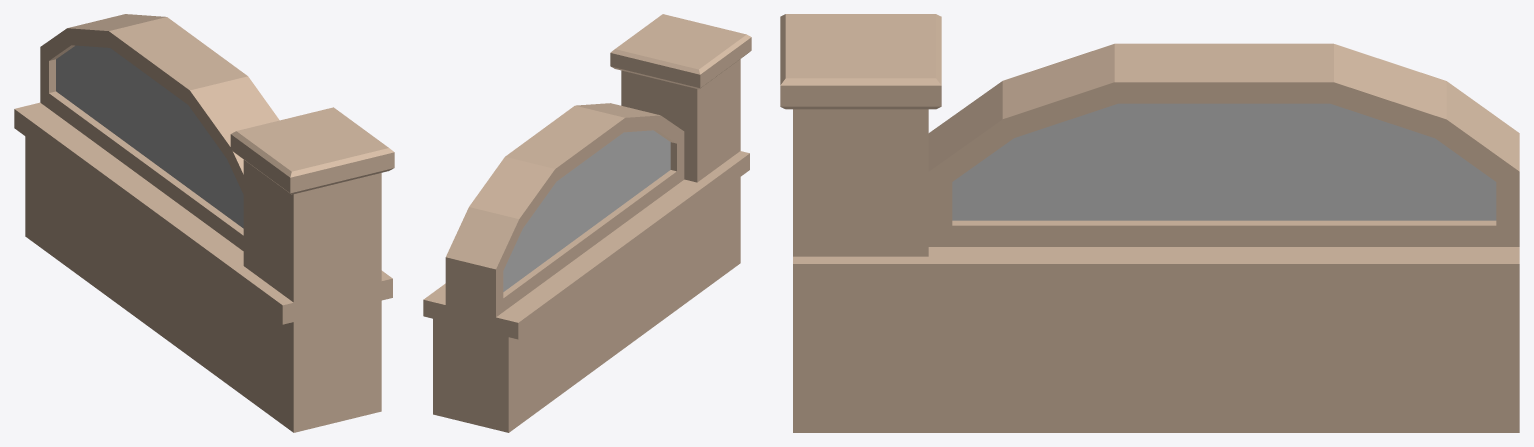
Rendered from Stone Fence 4.fbx.
The picture shows the model from 3 angles, left to right: view 1: azimuth 30°, elevation 25°; view 2: azimuth 150°, elevation 25°; view 3: azimuth 270°, elevation 25°; orthographic projection. The views are drawn at different scales.
Parts seen in each view (by area): view 1: Stone Fence 4; view 2: Stone Fence 4; view 3: Stone Fence 4.
Part boxes in pixels (<box>): Stone Fence 4: <box>14,14,394,432</box>; Stone Fence 4: <box>423,14,751,432</box>; Stone Fence 4: <box>780,14,1519,432</box>.
Size of the model in its own units: 0.7299 by 3.14 by 1.67.
